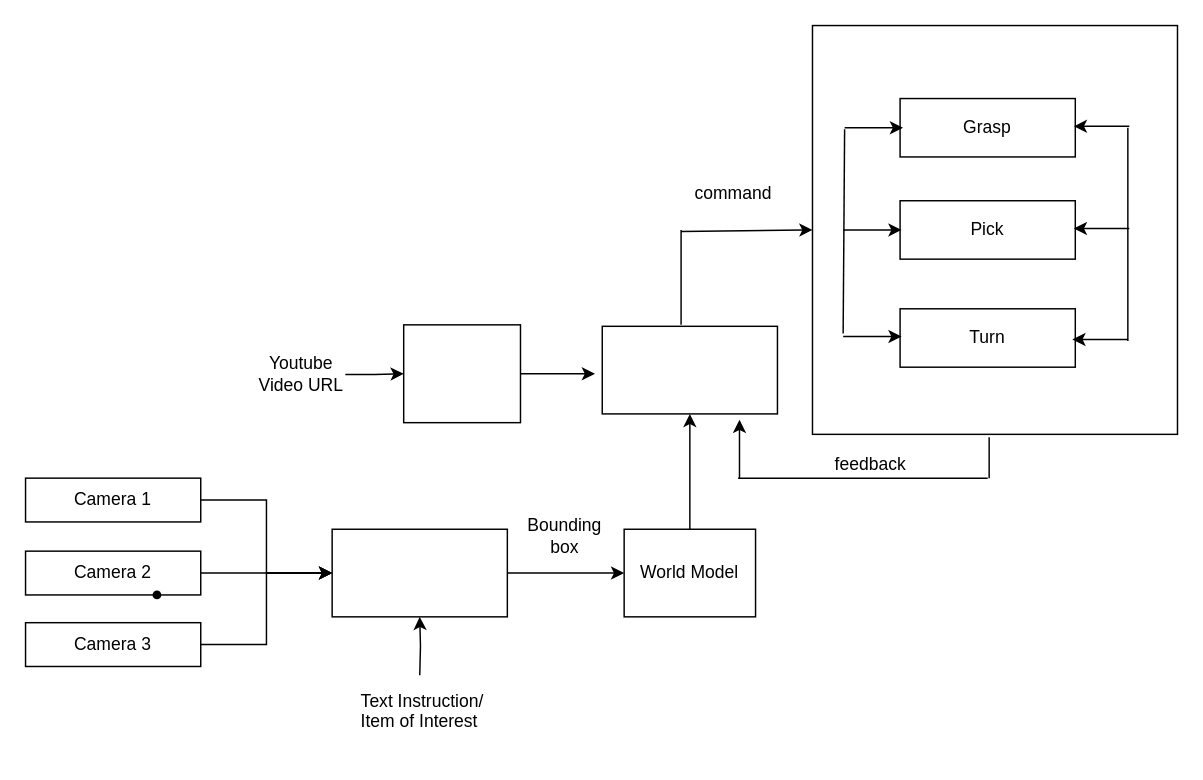
Some shapes in this 1203 by 780 pixel diagram are drawn without their labels. Here are the shapes that lost their labels. From the top down, the centre of each, then its label:
the point at 461,373: Video to Recipe
the point at 689,369: Policy Generator
the point at 419,572: dwani.ai Vision API
